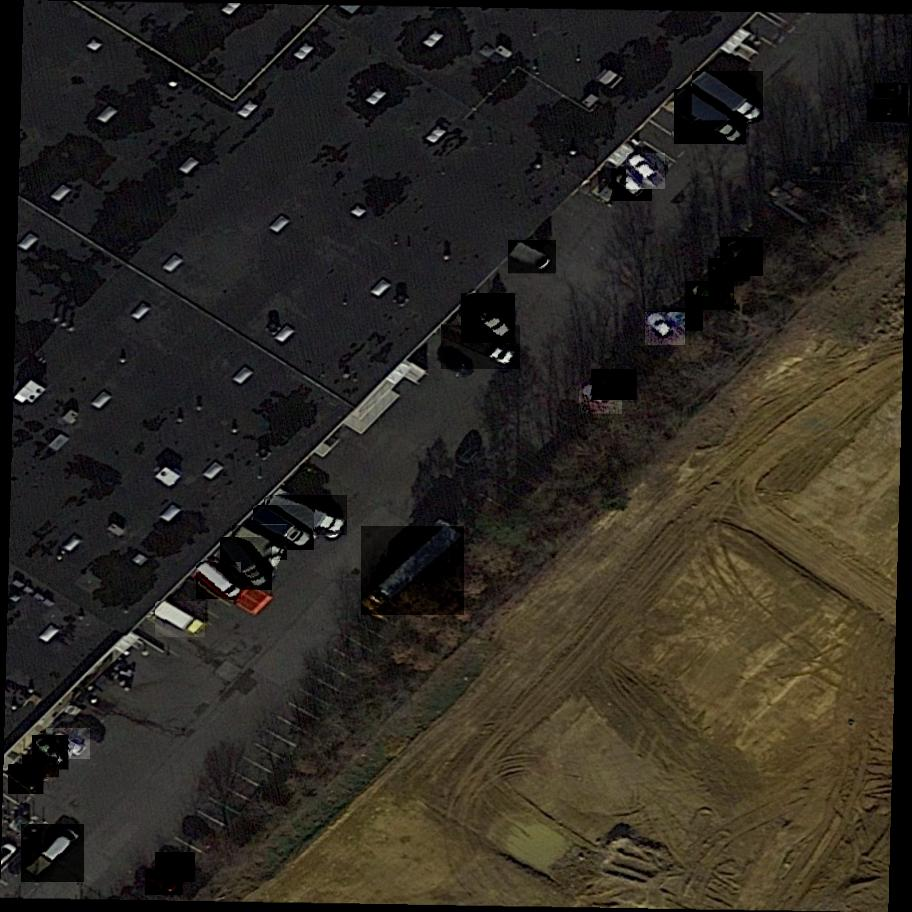large-vehicle: (360, 524, 465, 618), (21, 821, 86, 887), (675, 88, 746, 147), (693, 69, 766, 124), (442, 323, 521, 370), (267, 494, 347, 536), (461, 291, 515, 346), (220, 534, 271, 592), (253, 504, 314, 552), (232, 522, 290, 562), (155, 600, 207, 639), (196, 560, 241, 602)
small-vehicle: (720, 234, 763, 280), (509, 240, 557, 279), (592, 367, 638, 404), (47, 727, 91, 763), (626, 152, 666, 191), (645, 310, 685, 349), (32, 733, 70, 774), (579, 381, 622, 417), (686, 280, 734, 311), (612, 167, 652, 203), (155, 851, 196, 884), (9, 763, 44, 797), (708, 258, 750, 284), (867, 99, 910, 124), (146, 868, 184, 896), (664, 307, 703, 332), (23, 754, 60, 780), (873, 84, 908, 100)
